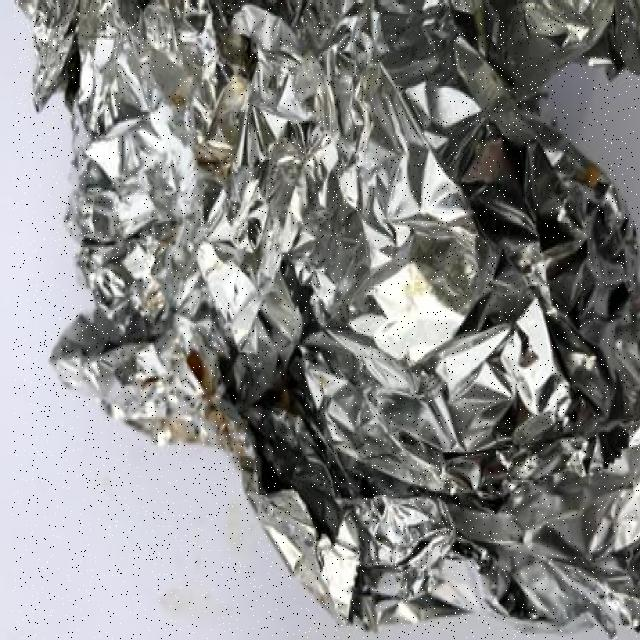metal: (13, 1, 640, 638)
